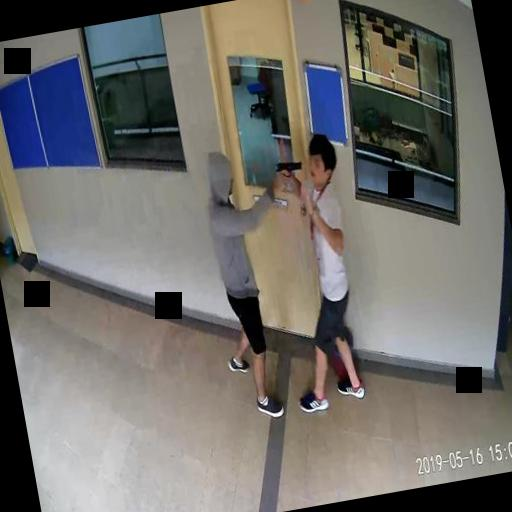Handgun: (274, 156, 304, 189)
